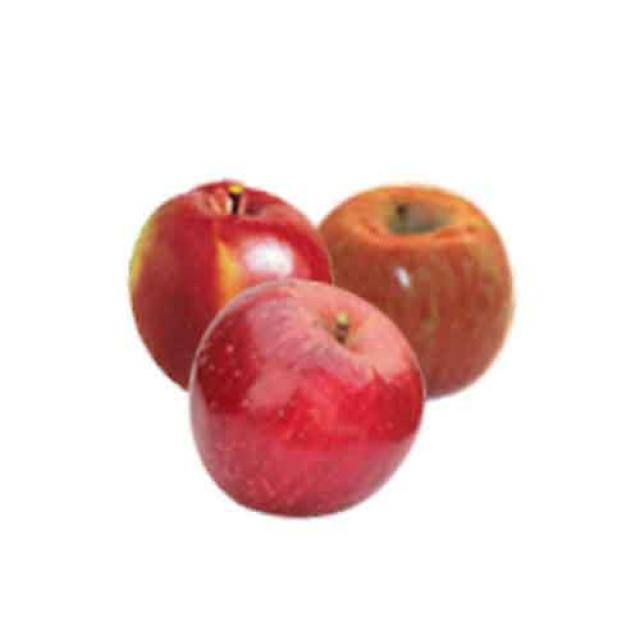apple: (197, 282, 425, 523), (125, 179, 338, 408), (319, 181, 526, 414)
